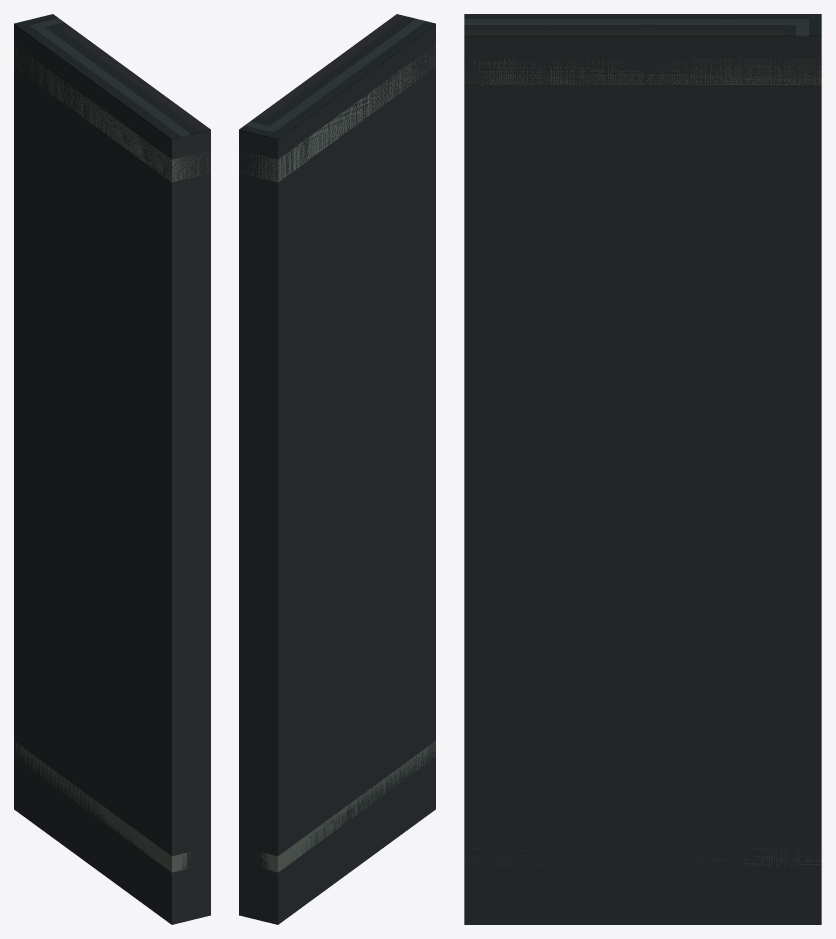
File: CMU3DInteriorVehicleTankBack3.glb
The picture shows the model from 3 angles, left to right: view 1: azimuth 30°, elevation 25°; view 2: azimuth 150°, elevation 25°; view 3: azimuth 270°, elevation 25°; orthographic projection. The views are drawn at different scales.
Visible parts, largest first — view 1: cabin bulkhead, cabin bulkhead source finish, upper armor trim, lower armor trim; view 2: cabin bulkhead, cabin bulkhead source finish, upper armor trim, lower armor trim; view 3: cabin bulkhead, cabin bulkhead source finish, upper armor trim.
Boxes of the visible parts, x1=… form: cabin bulkhead: x1=14, y1=25, x2=210, y2=924; cabin bulkhead source finish: x1=14, y1=14, x2=210, y2=139; upper armor trim: x1=14, y1=45, x2=210, y2=182; lower armor trim: x1=14, y1=742, x2=190, y2=872; cabin bulkhead: x1=239, y1=25, x2=435, y2=924; cabin bulkhead source finish: x1=239, y1=14, x2=435, y2=139; upper armor trim: x1=239, y1=45, x2=435, y2=182; lower armor trim: x1=256, y1=741, x2=435, y2=872; cabin bulkhead: x1=464, y1=36, x2=821, y2=924; cabin bulkhead source finish: x1=464, y1=14, x2=821, y2=36; upper armor trim: x1=467, y1=59, x2=821, y2=84.
Bounding box in the file's own units: 0.125 × 2.4 × 0.875.
Materials: 4 (1 with a texture image).
